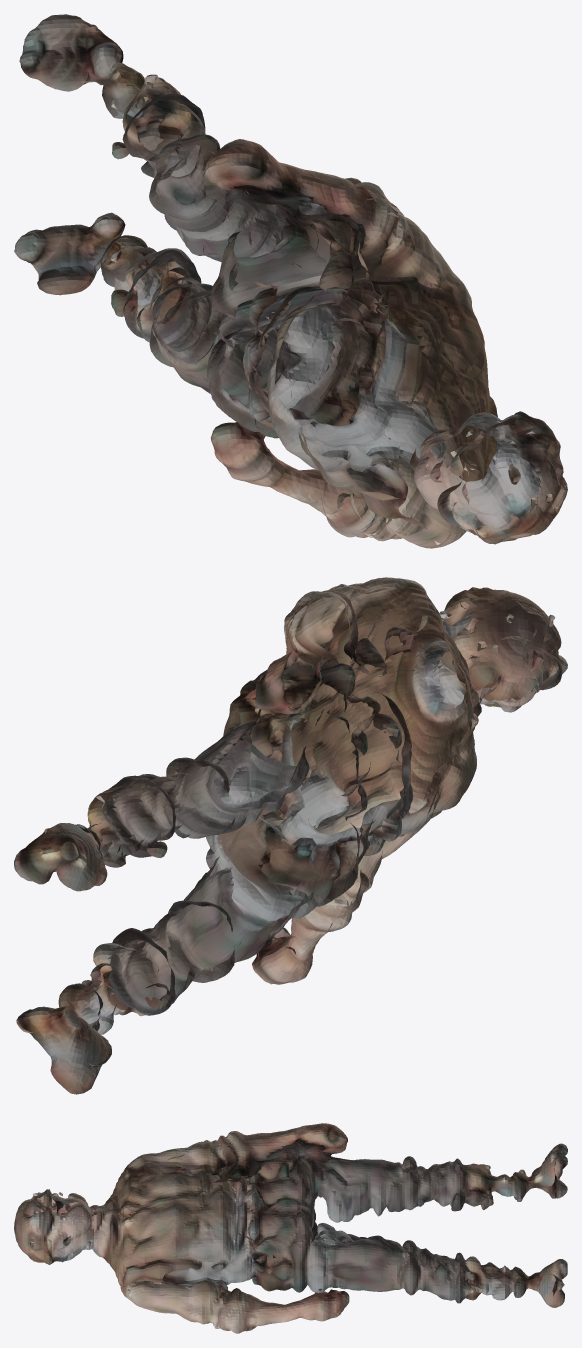
Rendered from triposr.glb.
3 views of the same model, one above another, from view 1: azimuth 30°, elevation 25°; view 2: azimuth 150°, elevation 25°; view 3: azimuth 270°, elevation 25° (orthographic). The views are drawn at different scales.
Parts seen in each view (by area): view 1: geometry_0; view 2: geometry_0; view 3: geometry_0.
Boxes of the visible parts, <box> form: geometry_0: <box>14,14,567,548</box>; geometry_0: <box>14,577,567,1094</box>; geometry_0: <box>14,1123,567,1333</box>.
Bounding box in the file's own units: 0.1848 × 0.3824 × 0.9559.
